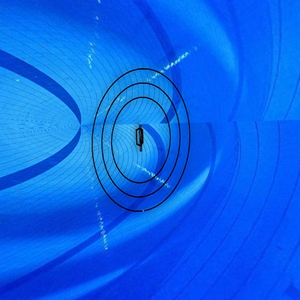circle: (90, 66, 194, 214)
submarine: (131, 121, 150, 158)
